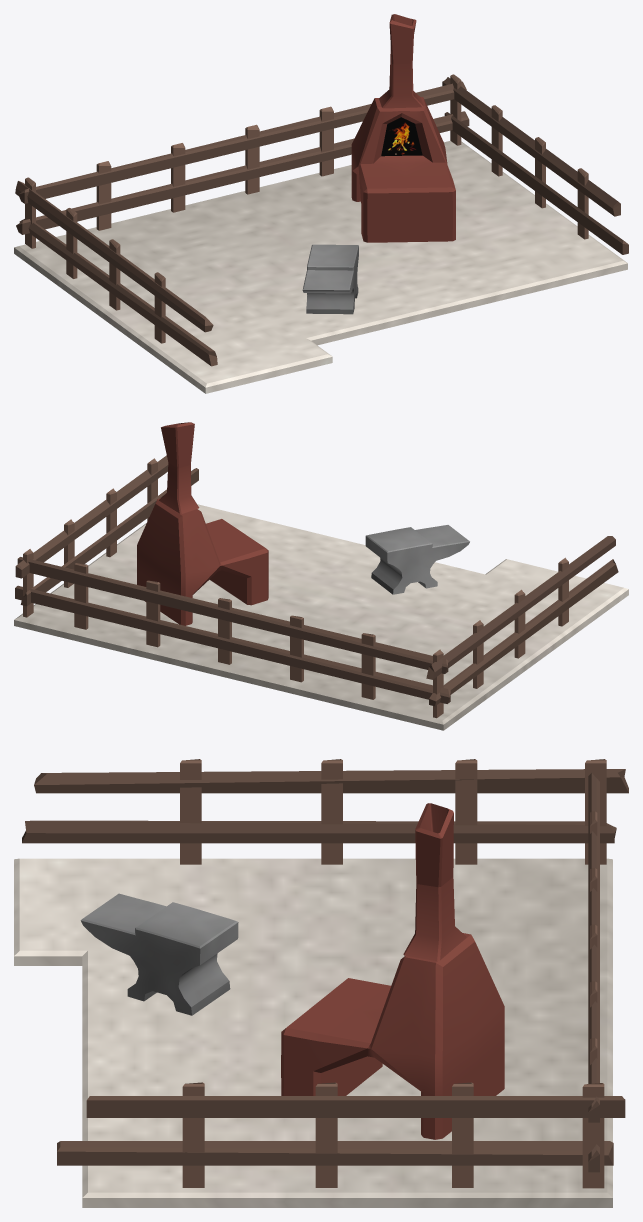
The model's file is blacksmith_0lvl_color.fbx.
3 views of the same model, one above another, from view 1: azimuth 30°, elevation 25°; view 2: azimuth 150°, elevation 25°; view 3: azimuth 270°, elevation 25° (orthographic). The views are drawn at different scales.
Visible parts, largest first — view 1: blacksmith_0lvl1_color; view 2: blacksmith_0lvl1_color; view 3: blacksmith_0lvl1_color.
Boxes of the visible parts, box(x1,y1,x2,y2) form: blacksmith_0lvl1_color: box(14, 14, 628, 393); blacksmith_0lvl1_color: box(14, 422, 628, 730); blacksmith_0lvl1_color: box(14, 759, 628, 1207).
Size of the model in its own units: 6.07 by 2.56 by 4.6.
